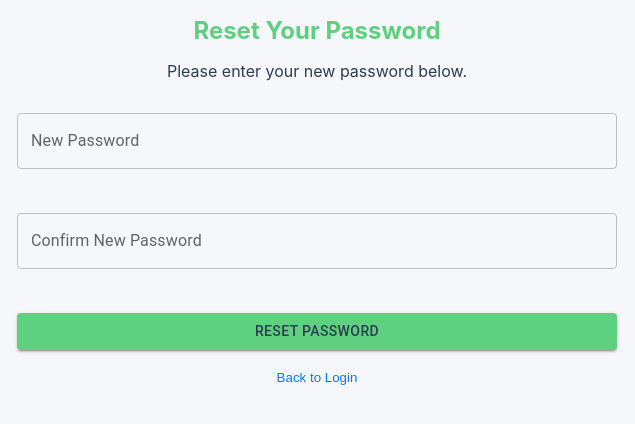
Scenario: Admin Password Reset - Reset Password Page › should validate password confirmation match
Expected: the heading "Reset Your Password" is shown, [193,16,441,45]
Type "newpassword123" into the password field labelled "New Password".
click(317, 141); type("newpassword123")  # box [17,113,617,169]
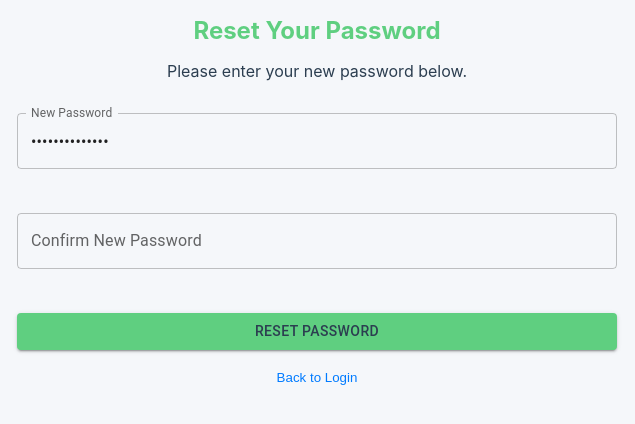
Type "differentpassword" into the password field labelled "Confirm New Password".
click(317, 241); type("differentpassword")  # box [17,213,617,269]
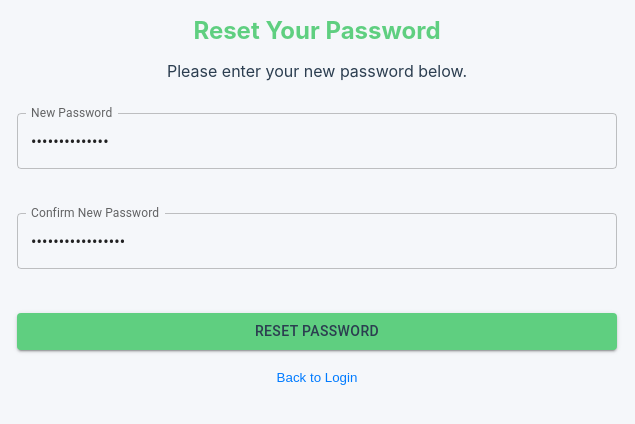
Click the button "Reset Password".
click(317, 331)  # box [17,313,617,350]
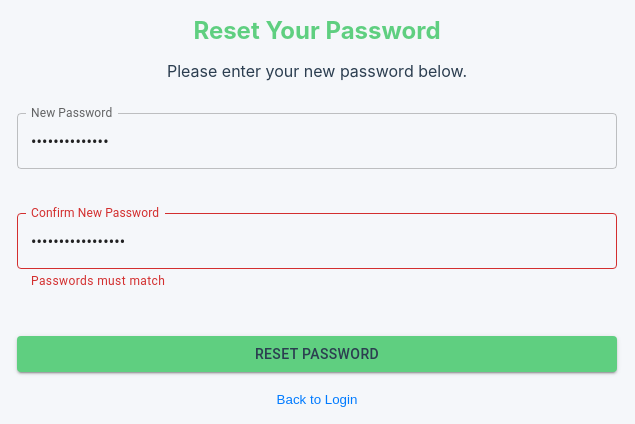
Expected: the text "Reset Password" shows "Passwords must match", [31,274,165,288]
